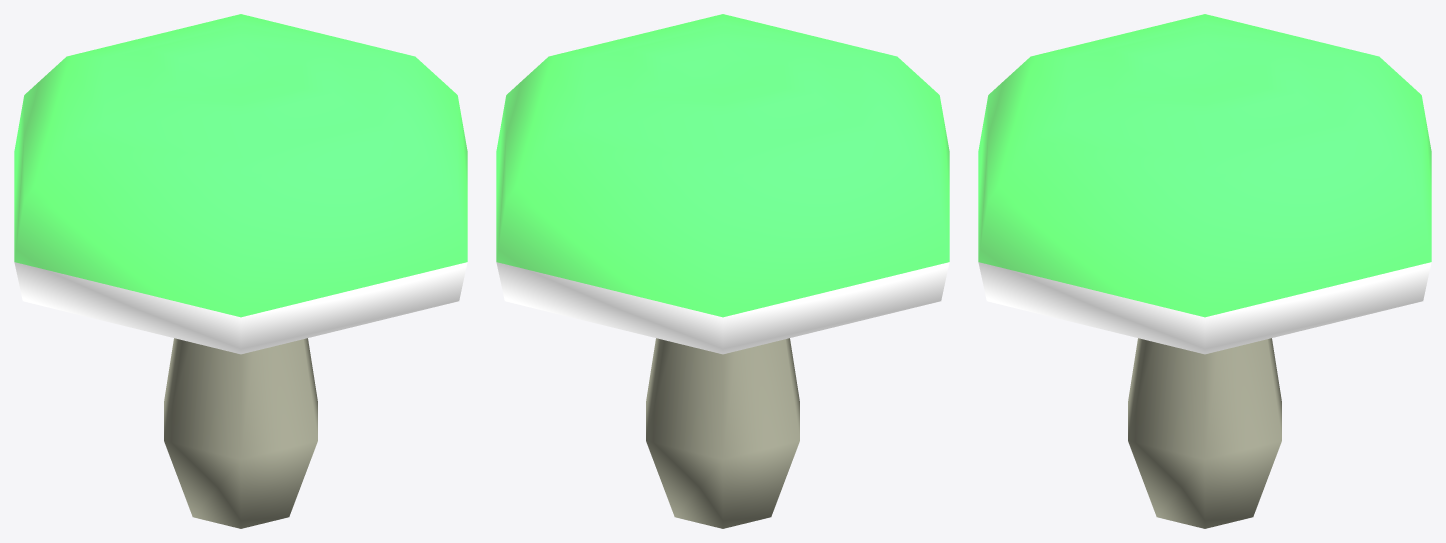
The model's file is KF_smooth_small-mushroom1.glb.
3 views of the same model, side by side, from view 1: azimuth 30°, elevation 25°; view 2: azimuth 150°, elevation 25°; view 3: azimuth 270°, elevation 25° (orthographic).
Parts seen in each view (by area): view 1: pasted__small_mushroom.001; view 2: pasted__small_mushroom.001; view 3: pasted__small_mushroom.001.
Part boxes in pixels (x1,y1,x2,y2): pasted__small_mushroom.001: (14, 14, 467, 528); pasted__small_mushroom.001: (496, 14, 949, 528); pasted__small_mushroom.001: (978, 14, 1431, 528).
Bounding box in the file's own units: 6.74 × 6.17 × 5.84.
